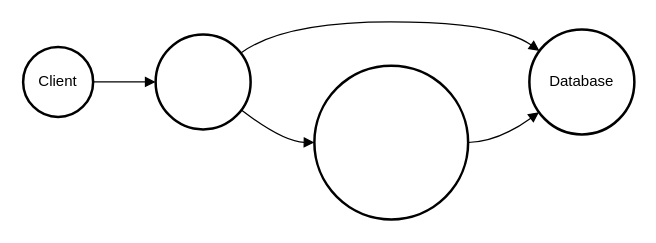
The diagram is 656 pixels wide and 243 high, and some of its shapes have lost their labels. The shapes that lost their labels are listed below. From the top down, each one's centre as x and y in pixels, then its label:
At (202,81): "Services".
At (390,142): "Third Party API".
